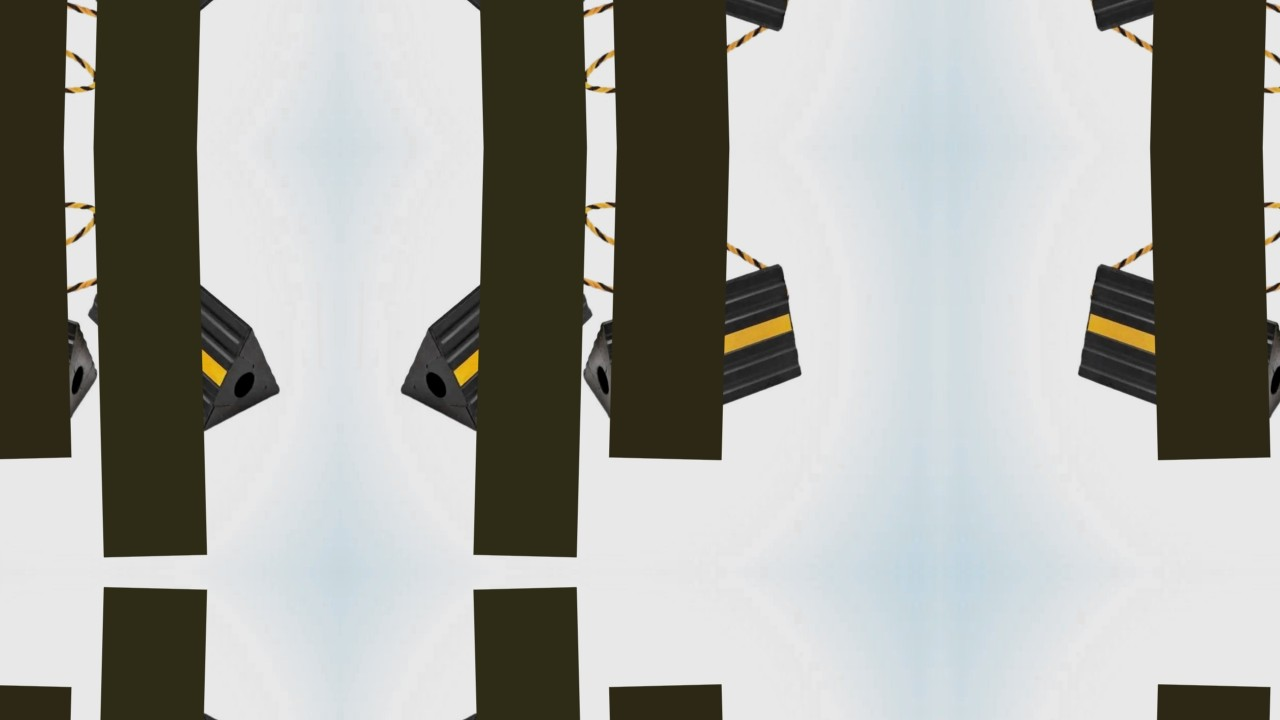chock: (84, 214, 284, 438), (396, 214, 596, 438), (583, 254, 805, 449), (1075, 254, 1280, 449), (0, 254, 97, 449), (84, 0, 284, 81), (396, 0, 596, 81), (583, 0, 805, 41), (1075, 0, 1280, 41), (583, 696, 805, 720), (1075, 696, 1280, 720)
